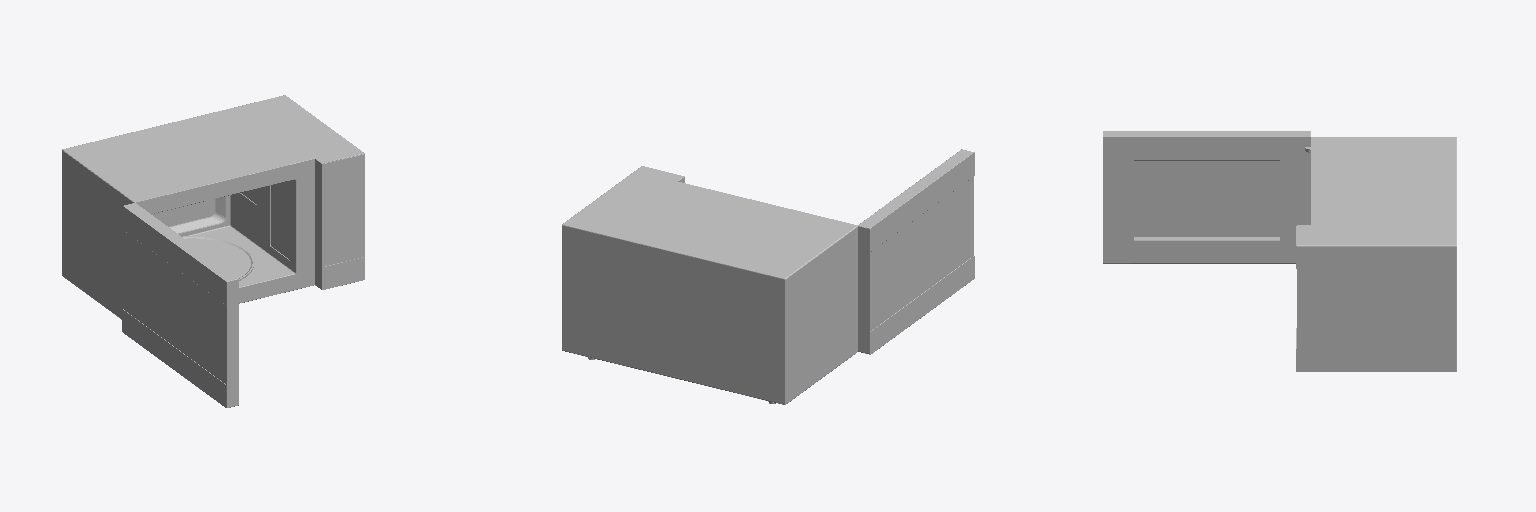
File: Microwave3.obj
3 views of the same model, side by side, from view 1: azimuth 30°, elevation 25°; view 2: azimuth 150°, elevation 25°; view 3: azimuth 270°, elevation 25° (orthographic).
Visible parts, largest first — view 1: Microwave, Object007, Object008; view 2: Microwave, Object007, Object008; view 3: Microwave, Object007, Object009.
Boxes of the visible parts, box(x1,y1,x2,y2) form: Microwave: box(62, 95, 364, 319); Object007: box(122, 203, 238, 407); Object008: box(139, 242, 210, 372); Microwave: box(562, 166, 857, 404); Object007: box(858, 149, 974, 354); Object008: box(886, 189, 957, 319); Microwave: box(1296, 137, 1456, 371); Object007: box(1103, 131, 1310, 263); Object009: box(1134, 161, 1279, 236).
Size of the model in its own units: 20.61 by 11.31 by 26.79.